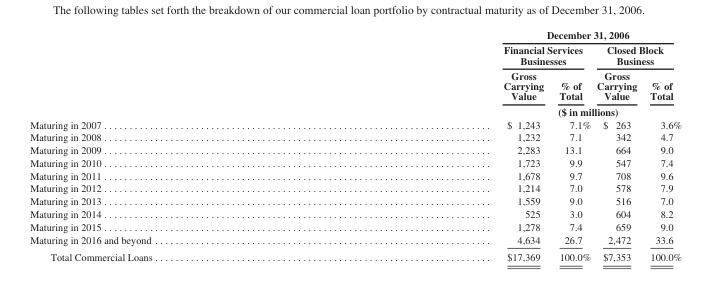table: (29, 28, 681, 262)
table column: (29, 28, 327, 262), (327, 28, 550, 262), (593, 28, 642, 262), (550, 28, 593, 262), (642, 28, 681, 262)
table column header: (29, 28, 681, 117)
table row: (29, 67, 681, 103), (29, 42, 681, 67), (29, 232, 681, 247), (29, 247, 681, 262), (29, 28, 681, 42), (29, 103, 681, 117), (29, 117, 681, 130), (29, 130, 681, 143), (29, 143, 681, 156), (29, 168, 681, 181), (29, 181, 681, 194), (29, 194, 681, 207), (29, 219, 681, 232), (29, 156, 681, 168), (29, 207, 681, 219)
table spanning cell: (327, 42, 593, 67), (327, 28, 681, 42), (327, 103, 681, 117), (593, 42, 681, 67)
